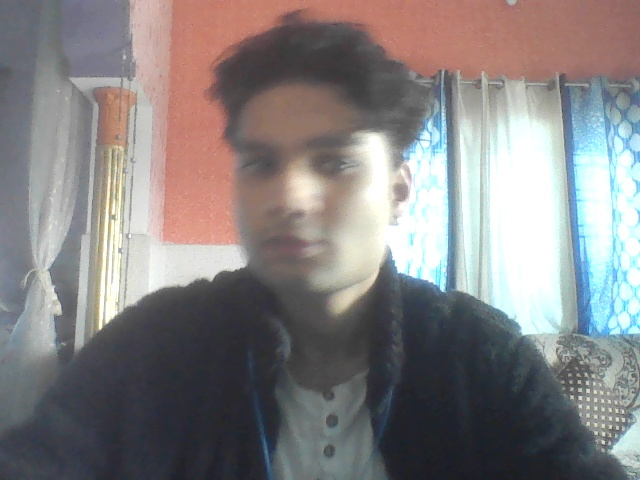real: (207, 15, 415, 310)
